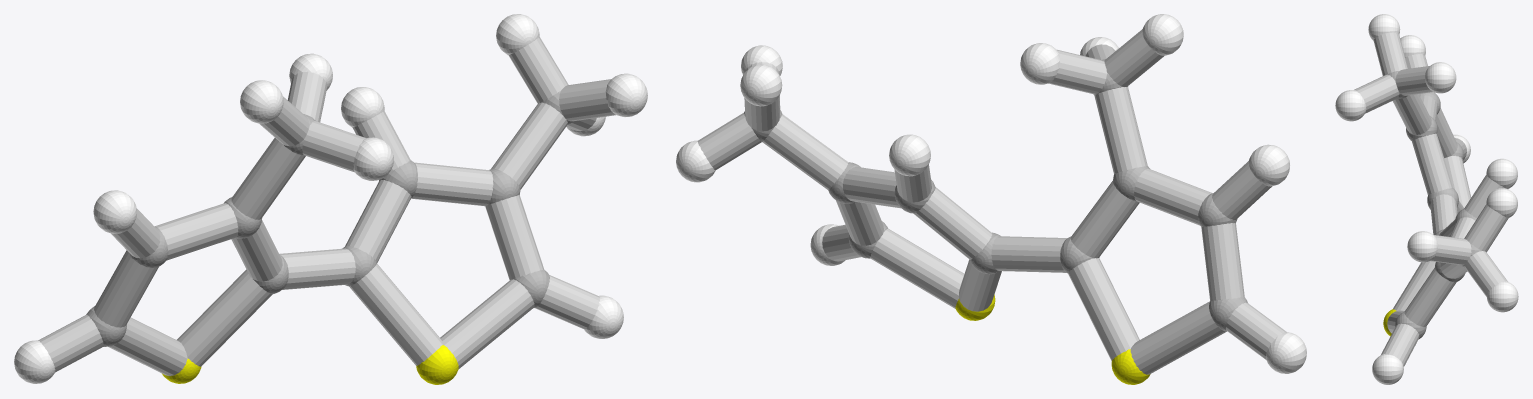
Rendered from Methylthiophene_Phi_15_Theta_130_Methylthiophene.glb.
3 views of the same model, side by side, from view 1: azimuth 30°, elevation 25°; view 2: azimuth 150°, elevation 25°; view 3: azimuth 270°, elevation 25° (orthographic). The views are drawn at different scales.
Parts seen in each view (by area): view 1: grp7965, grp3621, grp1, grp7241; view 2: grp7965, grp3621, grp1, grp7241; view 3: grp7965, grp3621, grp1.
Boxes of the visible parts, box(x1,y1,x2,y2) form: grp7965: box(38, 37, 615, 375); grp3621: box(14, 14, 647, 383); grp1: box(86, 91, 572, 346); grp7241: box(162, 345, 458, 384); grp7965: box(697, 29, 1286, 374); grp3621: box(676, 14, 1306, 373); grp1: box(744, 59, 1247, 331); grp7241: box(955, 294, 1150, 384); grp7965: box(1354, 32, 1508, 366); grp3621: box(1335, 14, 1518, 384); grp1: box(1387, 71, 1481, 338).
Bounding box in the file's own units: 9.8 × 5.35 × 3.46.
